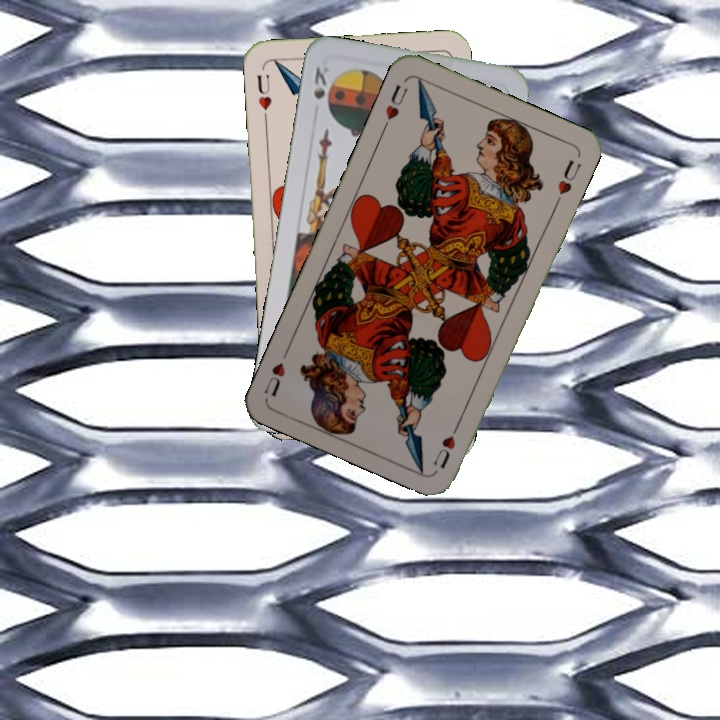HU: (429, 417, 464, 471), (379, 80, 411, 132), (253, 70, 274, 124)
SK: (309, 62, 332, 102)
